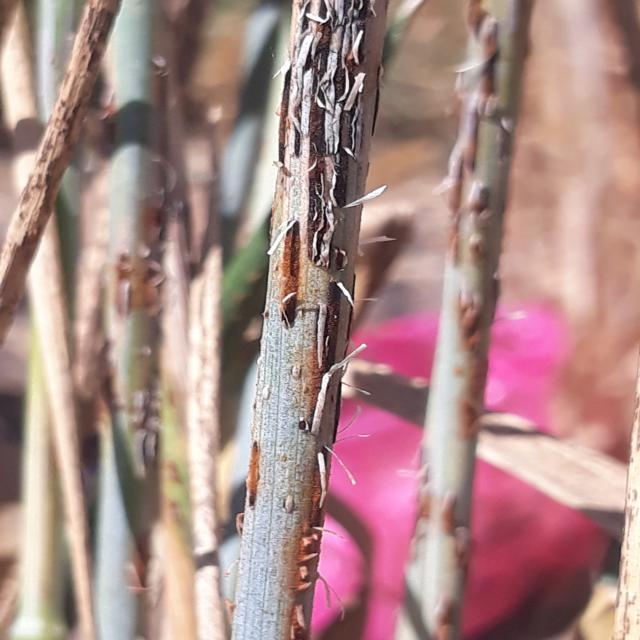black_stem_rust: (4, 3, 554, 640)
